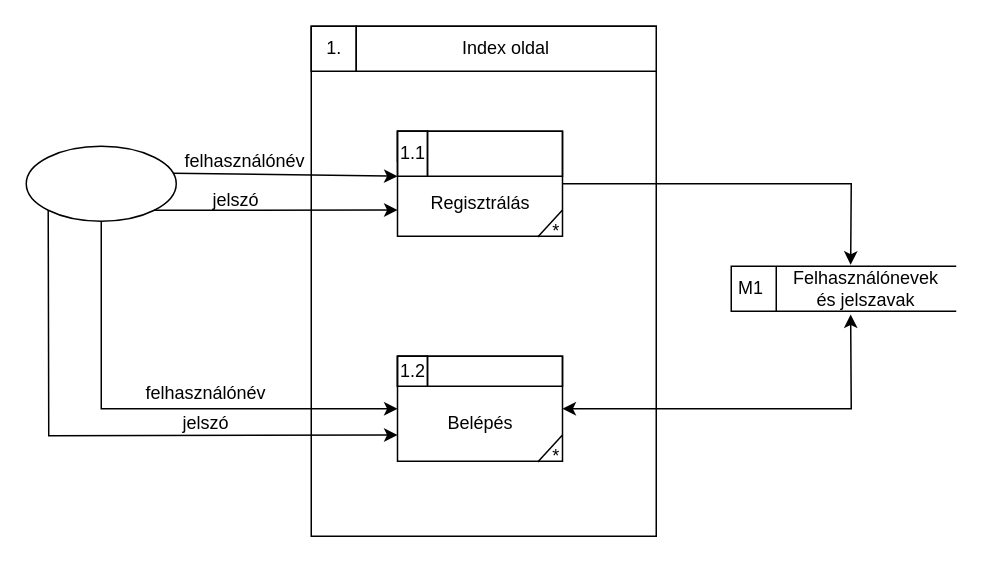
The diagram is 983 pixels wide and 563 high, and some of its shapes have lost their labels. Here are the shapes that lost their labels. From the top down, the centre of each, then its label:
At (x=494, y=153): "Regisztráció".
At (x=100, y=183): "Felhasználó".
At (x=494, y=370): "Bejelentkezés".
